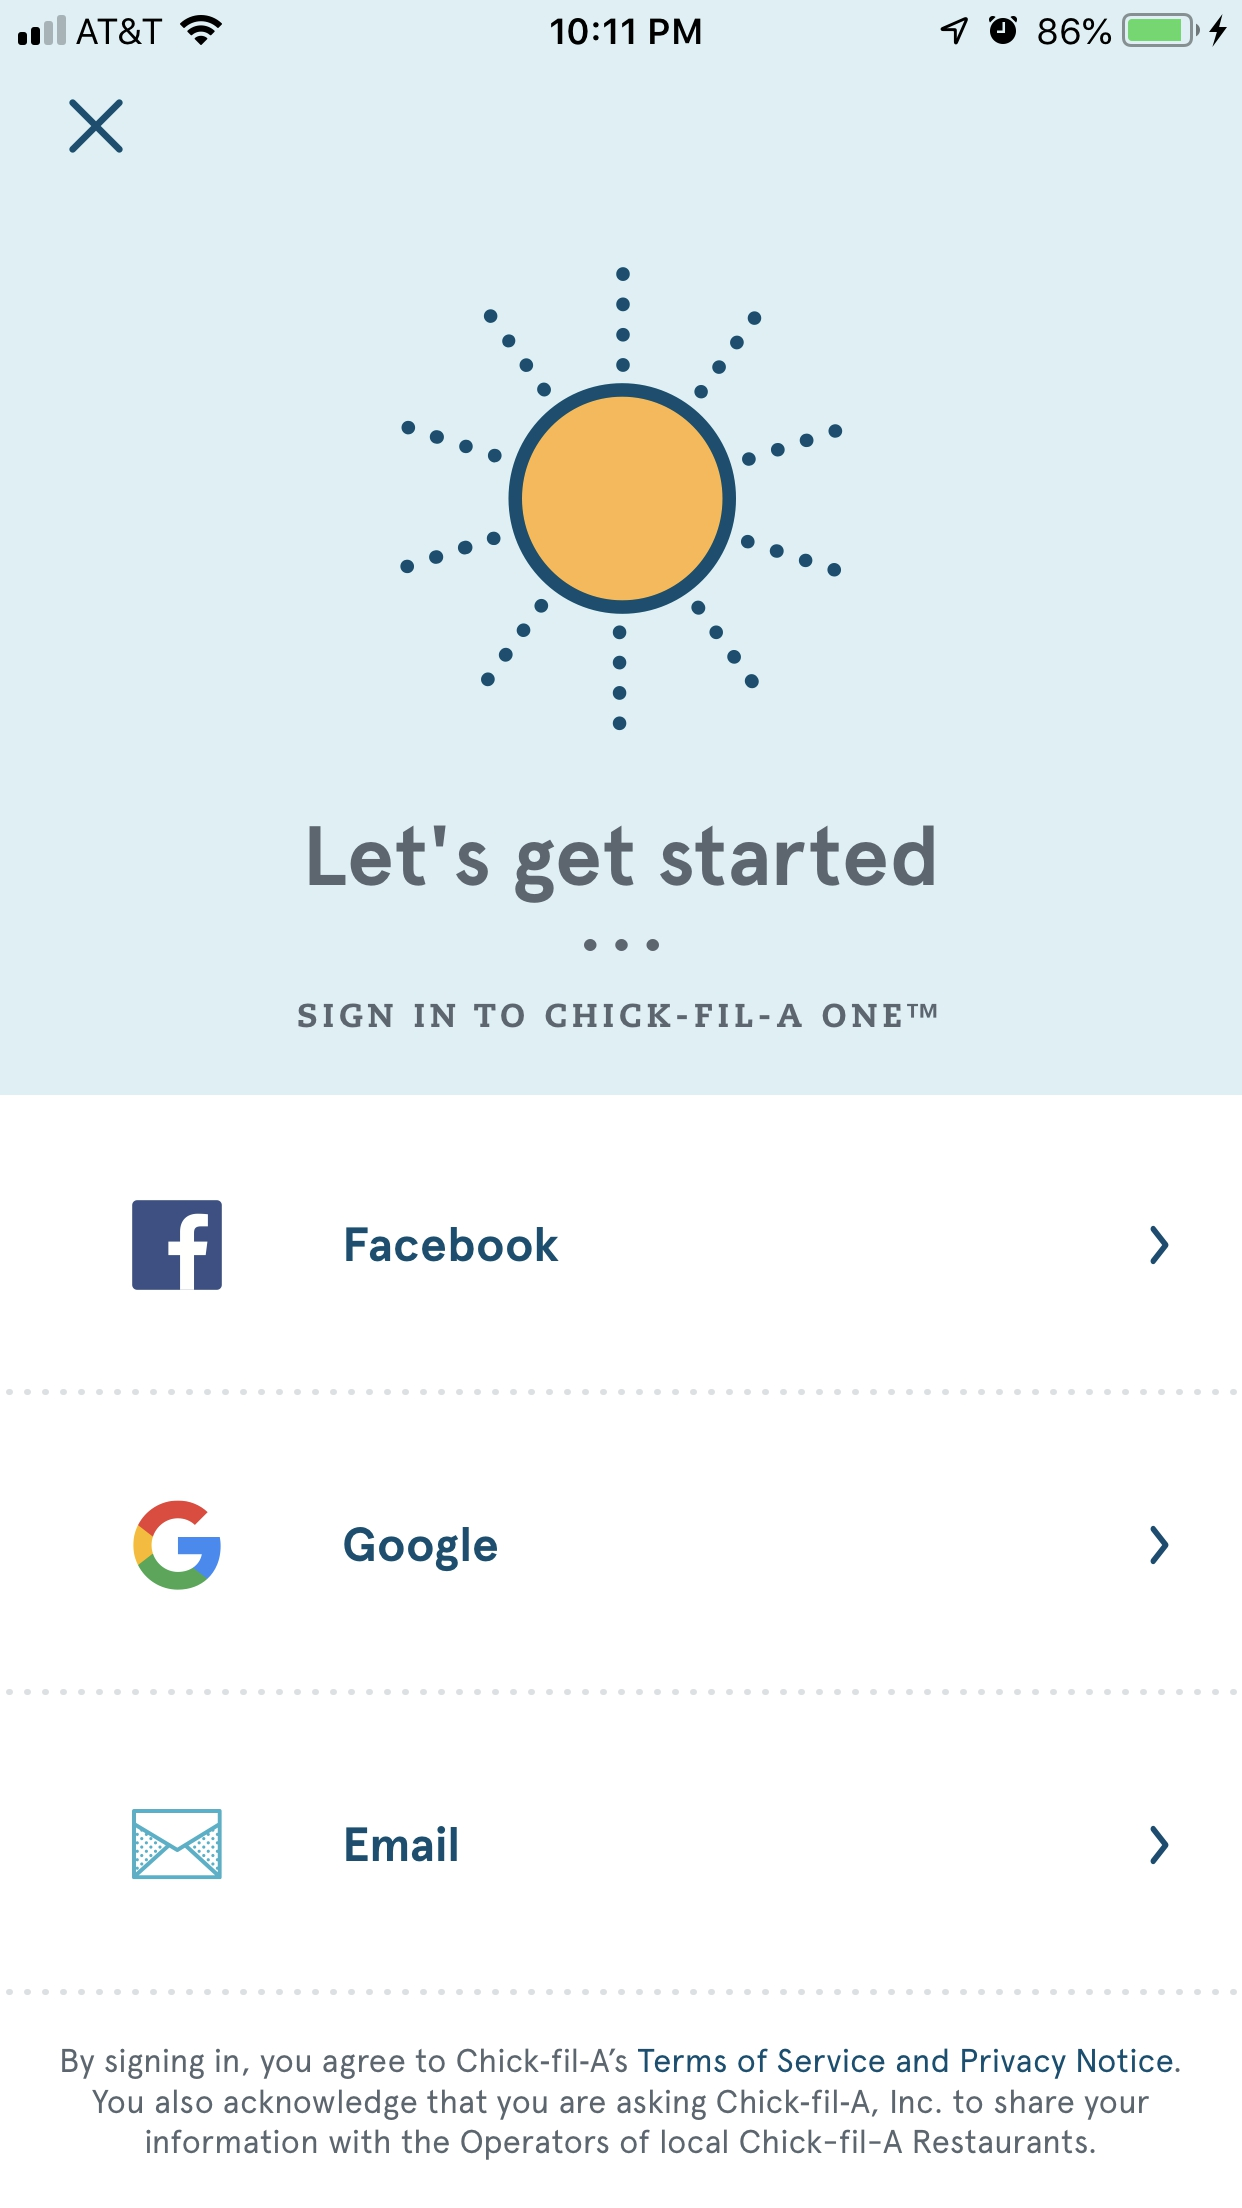Icon: (132, 1200, 224, 1291), (133, 1498, 223, 1591), (132, 1808, 223, 1880), (70, 99, 124, 155), (1149, 1824, 1171, 1865), (1149, 1225, 1171, 1265), (1149, 1526, 1171, 1565)
Image: (400, 265, 843, 731)
PageIndicator: (584, 939, 661, 952)
Text: (62, 2047, 1181, 2161), (309, 823, 936, 905), (299, 1002, 937, 1030), (346, 1225, 558, 1263), (344, 1526, 497, 1573), (346, 1824, 459, 1862)
UpperTaskBar: (2, 2, 1242, 49)
